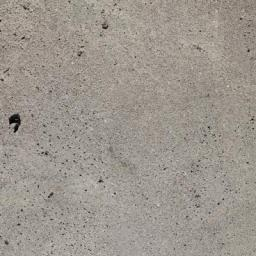FOD: (7, 110, 25, 137)
